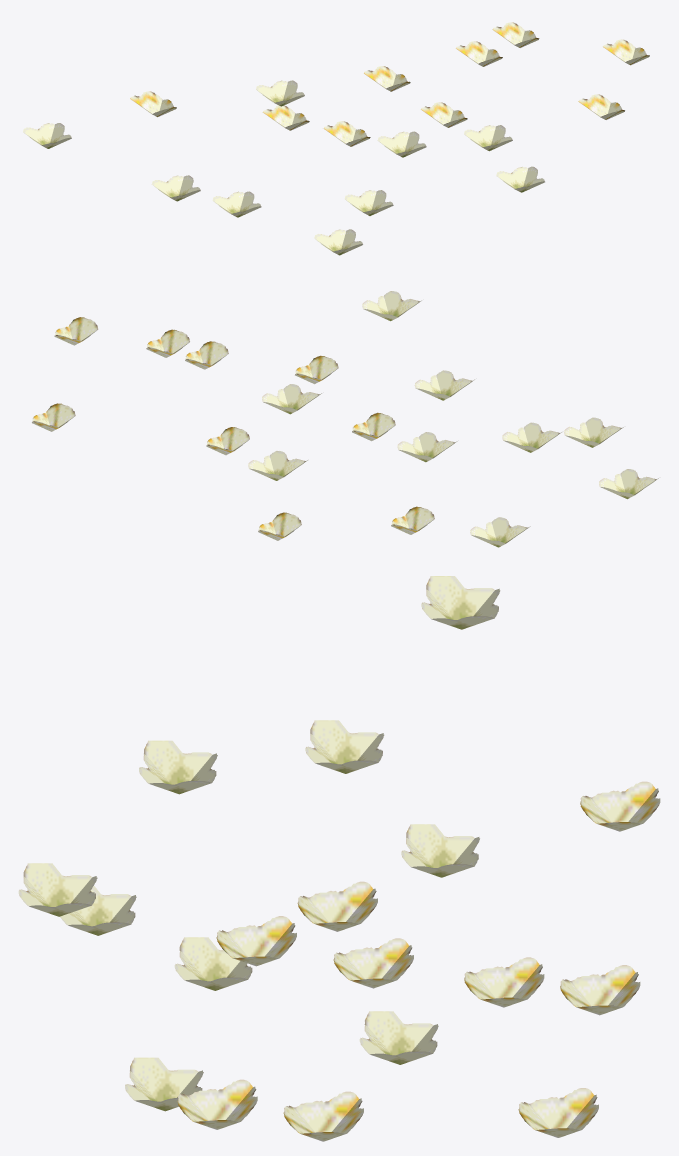
The model's file is xiaohua6.fbx.
3 renders of one model, top to bottom at view 1: azimuth 30°, elevation 25°; view 2: azimuth 150°, elevation 25°; view 3: azimuth 270°, elevation 25°, orthographic. The views are drawn at different scales.
Parts seen in each view (by area): view 1: xiaohua6; view 2: xiaohua6; view 3: xiaohua6.
Boxes of the visible parts, x1,y1,x2,y2 form: xiaohua6: [23, 22, 649, 255]; xiaohua6: [32, 291, 658, 547]; xiaohua6: [18, 576, 660, 1141].
Bounding box in the file's own units: 382 × 71.47 × 205.
1 material, 1 textured.
